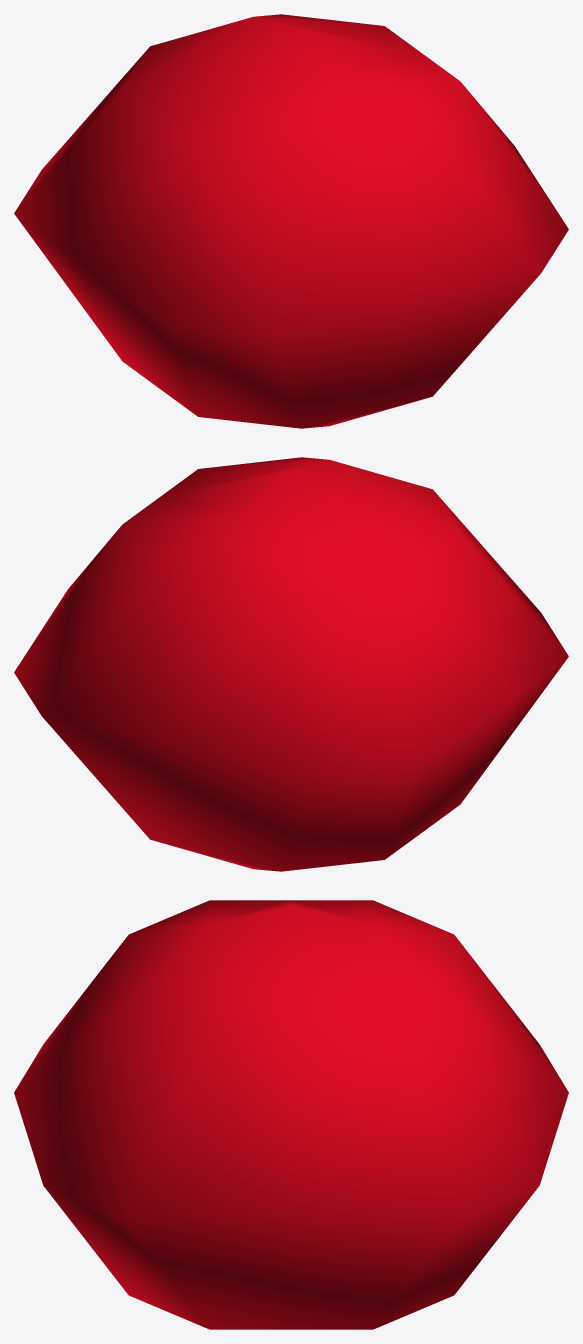
The model's file is fruit.fbx.
3 views of the same model, one above another, from view 1: azimuth 30°, elevation 25°; view 2: azimuth 150°, elevation 25°; view 3: azimuth 270°, elevation 25° (orthographic). The views are drawn at different scales.
Parts seen in each view (by area): view 1: Fruit1; view 2: Fruit1; view 3: Fruit1.
Part boxes in pixels (bbox=[...]): Fruit1: bbox=[14, 14, 568, 428]; Fruit1: bbox=[14, 457, 568, 871]; Fruit1: bbox=[14, 900, 568, 1329].
Bounding box in the file's own units: 14.24 × 11.84 × 14.24.
